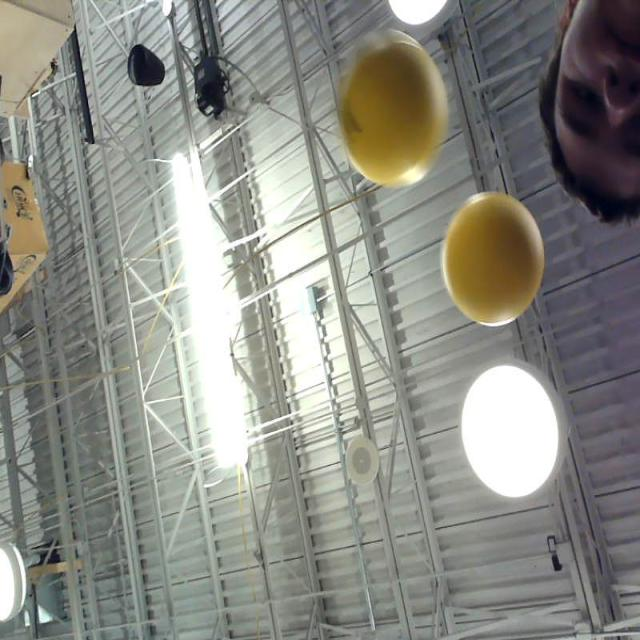Fuel: (341, 40, 446, 184), (442, 193, 544, 324)
